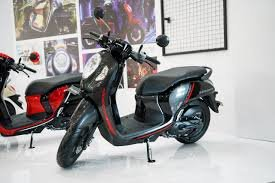motor: (55, 47, 215, 169)
